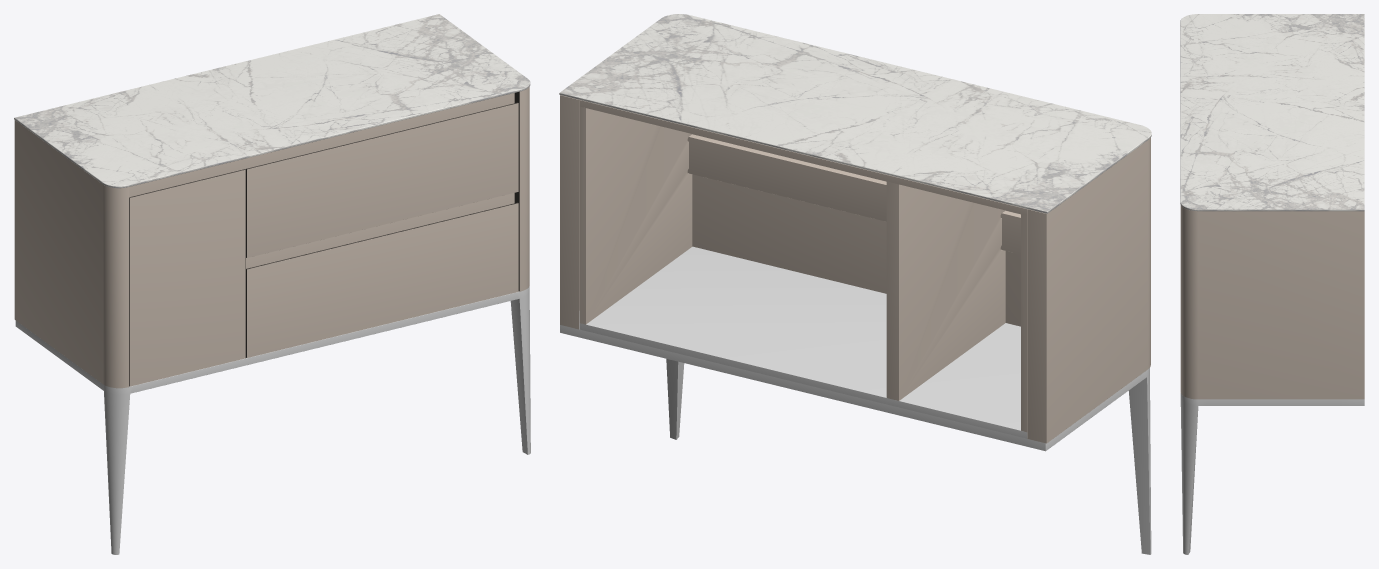
3 views of the same model, side by side, from view 1: azimuth 30°, elevation 25°; view 2: azimuth 150°, elevation 25°; view 3: azimuth 270°, elevation 25° (orthographic). The views are drawn at different scales.
Visible parts, largest first — view 1: ER06; view 2: ER06; view 3: ER06.
Part boxes in pixels (left/top/right/bottom): ER06: left=14, top=14, right=530, bottom=554; ER06: left=559, top=14, right=1151, bottom=554; ER06: left=1180, top=14, right=1364, bottom=554.
Bounding box in the file's own units: 1.25 × 1.04 × 0.5001.
Materials: 5 (1 with a texture image).
